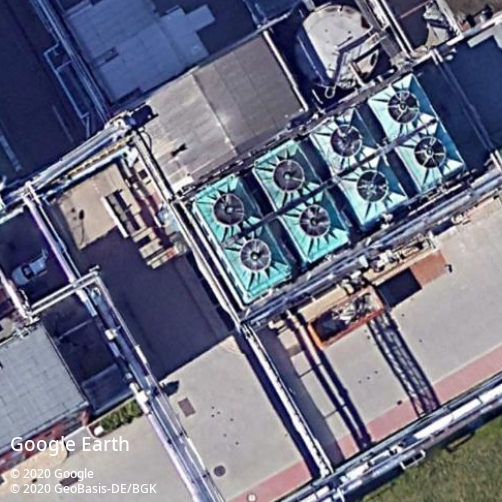Vent: (356, 169, 390, 203), (272, 159, 305, 193), (387, 91, 420, 124), (330, 125, 363, 158), (299, 204, 331, 238), (212, 193, 244, 226), (240, 239, 271, 273), (414, 137, 446, 169)
